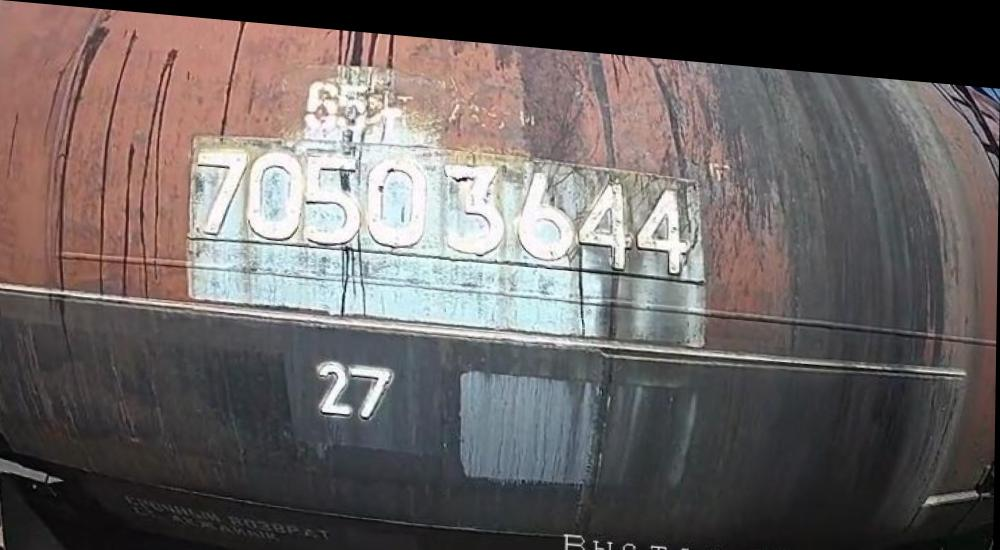Wagon-number: (192, 132, 703, 269)
